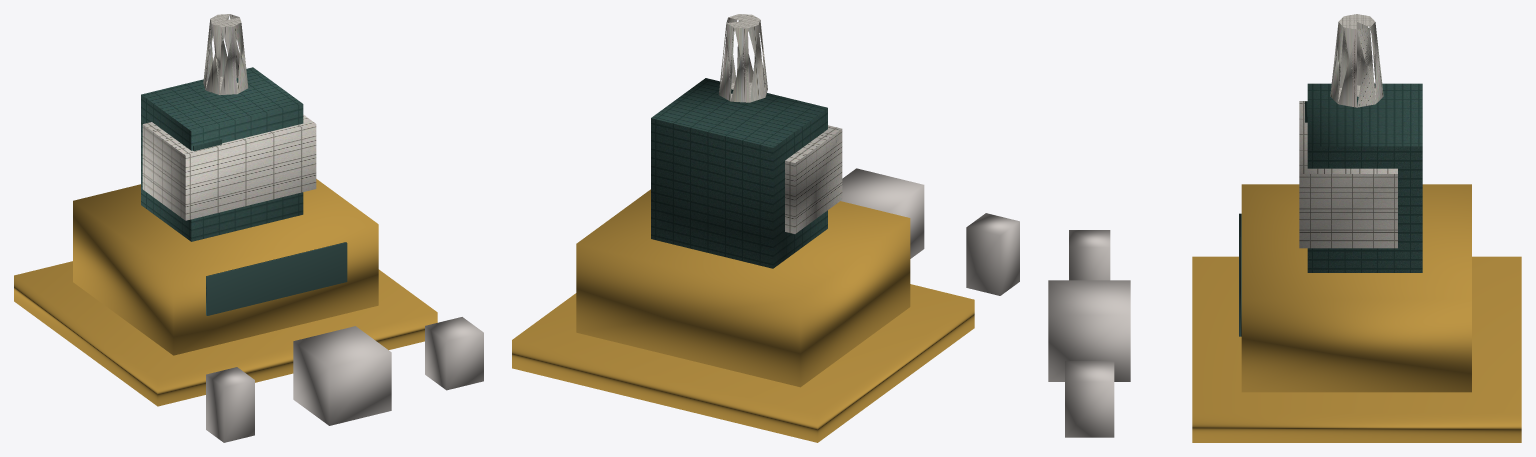
3 views of the same model, side by side, from view 1: azimuth 30°, elevation 25°; view 2: azimuth 150°, elevation 25°; view 3: azimuth 270°, elevation 25° (orthographic). The views are drawn at different scales.
Parts seen in each view (by area): view 1: sejong_pedestal_lod2, sejong_statue_lod2, sejong_science_lod2; view 2: sejong_pedestal_lod2, sejong_statue_lod2, sejong_science_lod2; view 3: sejong_pedestal_lod2, sejong_statue_lod2, sejong_science_lod2.
Part boxes in pixels (x1,y1,x2,y2): sejong_pedestal_lod2: [14, 179, 437, 406]; sejong_statue_lod2: [141, 14, 316, 241]; sejong_science_lod2: [206, 317, 483, 442]; sejong_pedestal_lod2: [512, 189, 974, 442]; sejong_statue_lod2: [651, 14, 842, 268]; sejong_science_lod2: [841, 168, 1019, 295]; sejong_pedestal_lod2: [1192, 184, 1521, 442]; sejong_statue_lod2: [1299, 14, 1422, 272]; sejong_science_lod2: [1048, 230, 1130, 437].
Size of what is drawn, in the model's own units: 9 by 9.2 by 11.5.
Materials: 3 (3 with a texture image).
